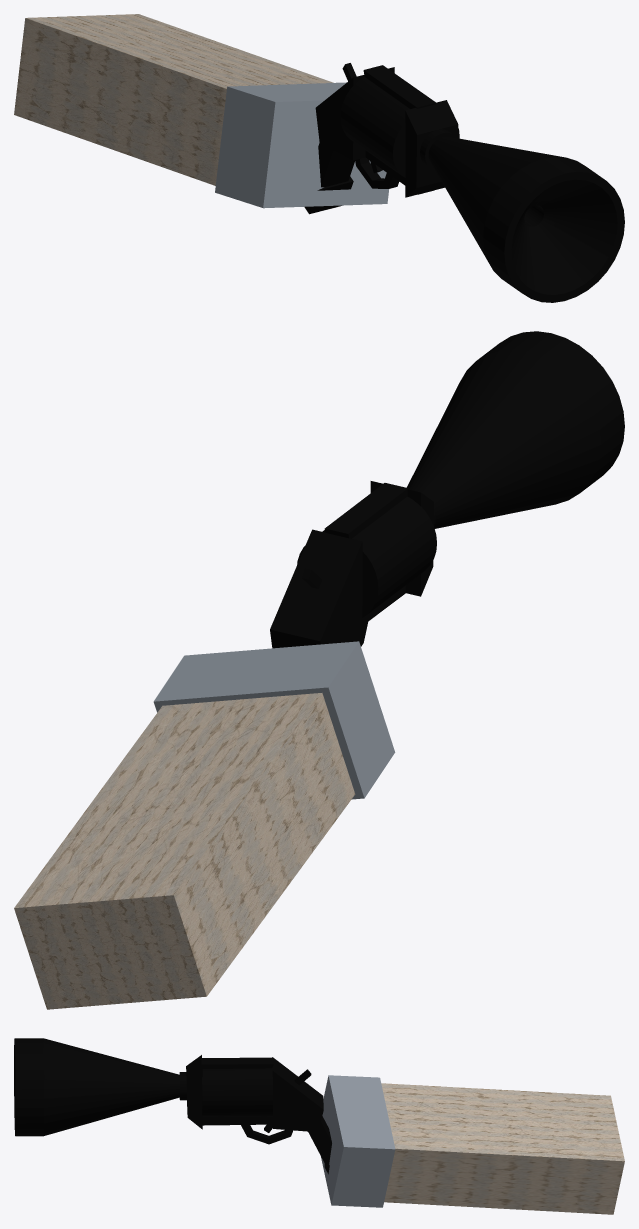
The model's file is revolver.glb.
The picture shows the model from 3 angles, top to bottom: view 1: azimuth 30°, elevation 25°; view 2: azimuth 150°, elevation 25°; view 3: azimuth 270°, elevation 25°; orthographic projection. The views are drawn at different scales.
Visible parts, largest first — view 1: Cube.242, Cube.016, Cube.095; view 2: Cube.016, Cube.242, Cube.095; view 3: Cube.016, Cube.242, Cube.095.
Boxes of the visible parts, x1=… form: Cube.242: x1=304, y1=63, x2=624, y2=302; Cube.016: x1=14, y1=14, x2=333, y2=185; Cube.095: x1=215, y1=82, x2=389, y2=208; Cube.016: x1=14, y1=693, x2=355, y2=1009; Cube.242: x1=270, y1=331, x2=624, y2=648; Cube.095: x1=153, y1=641, x2=395, y2=799; Cube.016: x1=381, y1=1083, x2=624, y2=1214; Cube.242: x1=14, y1=1038, x2=331, y2=1174; Cube.095: x1=321, y1=1075, x2=395, y2=1207.
Size of the model in its own units: 0.3262 by 0.3855 by 1.22.
Materials: 3 (1 with a texture image).
